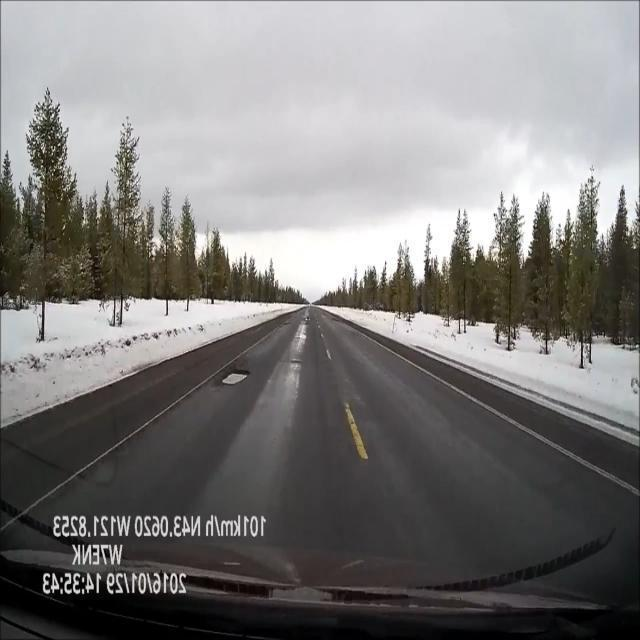pothole: (214, 354, 254, 402)
